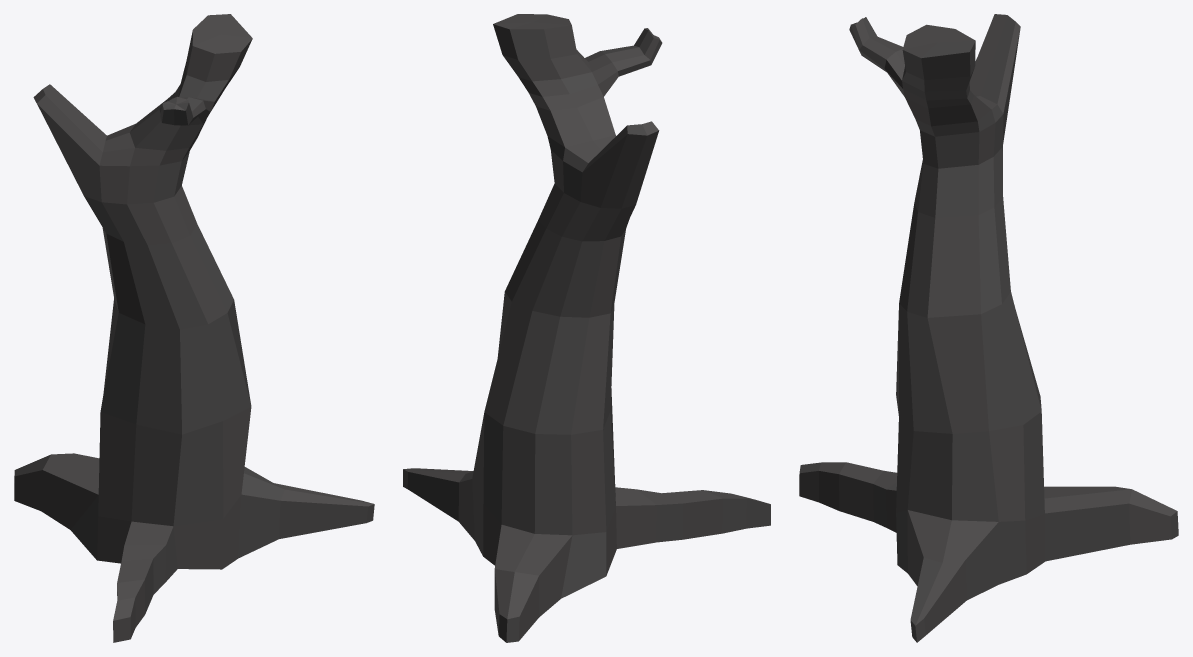
The model's file is Isl_4_Tree_1.fbx.
The picture shows the model from 3 angles, left to right: view 1: azimuth 30°, elevation 25°; view 2: azimuth 150°, elevation 25°; view 3: azimuth 270°, elevation 25°; orthographic projection. The views are drawn at different scales.
Parts seen in each view (by area): view 1: Isl_4_Tree_1; view 2: Isl_4_Tree_1; view 3: Isl_4_Tree_1.
Part boxes in pixels (left/top/right/bottom): Isl_4_Tree_1: left=14, top=14, right=374, bottom=642; Isl_4_Tree_1: left=403, top=14, right=770, bottom=642; Isl_4_Tree_1: left=799, top=14, right=1178, bottom=642.
Size of the model in its own units: 181 by 182 by 287.
1 material, 1 textured.
